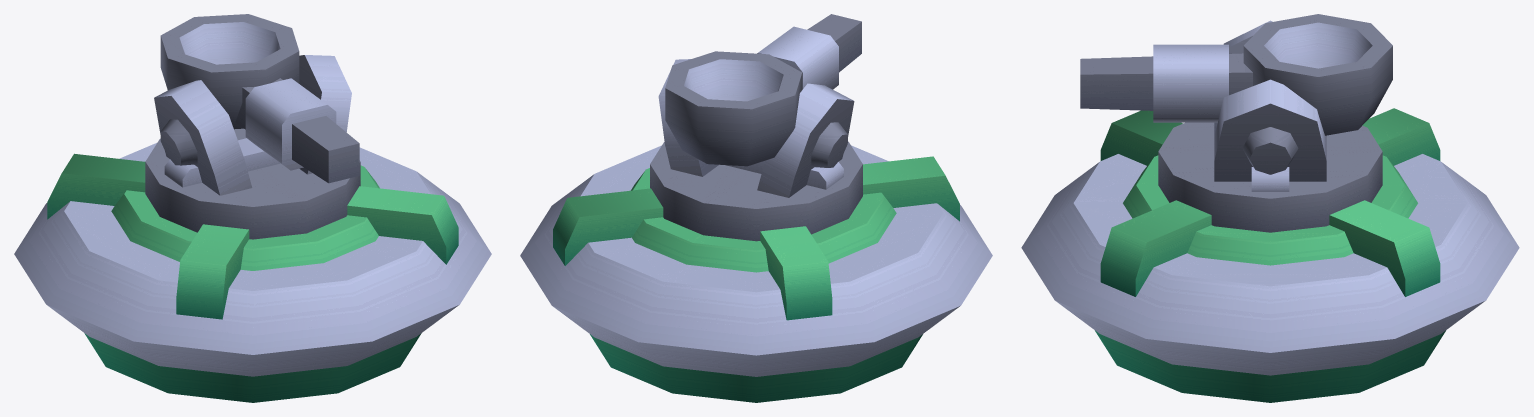
File: enemy-ufo-b-weapon.glb
The picture shows the model from 3 angles, left to right: view 1: azimuth 30°, elevation 25°; view 2: azimuth 150°, elevation 25°; view 3: azimuth 270°, elevation 25°; orthographic projection. The views are drawn at different scales.
Parts seen in each view (by area): view 1: enemy-ufo-b-weapon, enemy-ufo-b-weapon.001; view 2: enemy-ufo-b-weapon, enemy-ufo-b-weapon.001; view 3: enemy-ufo-b-weapon, enemy-ufo-b-weapon.001.
Part boxes in pixels (left/top/right/bottom): enemy-ufo-b-weapon: left=14, top=55, right=491, bottom=402; enemy-ufo-b-weapon.001: left=160, top=14, right=359, bottom=183; enemy-ufo-b-weapon: left=520, top=59, right=992, bottom=402; enemy-ufo-b-weapon.001: left=665, top=14, right=861, bottom=166; enemy-ufo-b-weapon: left=1021, top=20, right=1519, bottom=402; enemy-ufo-b-weapon.001: left=1080, top=14, right=1392, bottom=135.
Size of the model in its own units: 3 by 1.88 by 3.
Materials: 1 (1 with a texture image).
